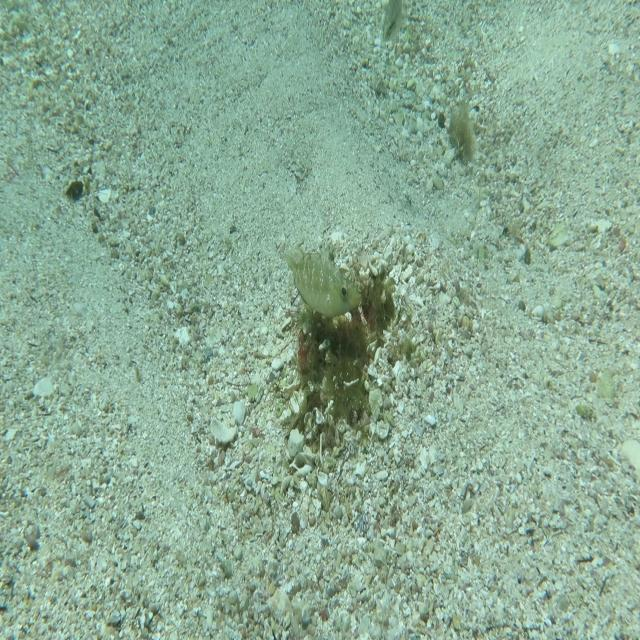FAN: (284, 239, 361, 318)
core_nest: (353, 289, 393, 328)
female: (381, 0, 402, 45)
nest: (290, 252, 420, 464)
vegetation: (445, 98, 478, 169), (65, 178, 86, 202)
